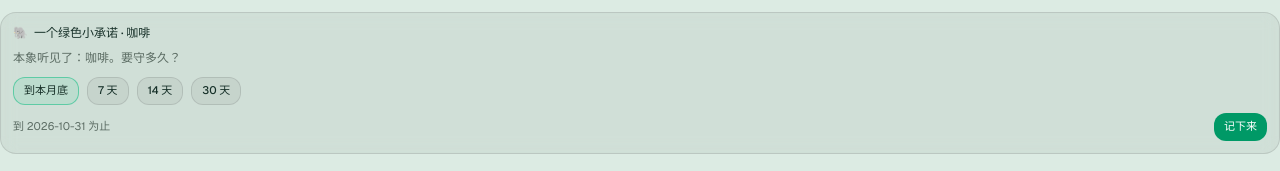
Test case: CommitmentCard 登记流 › 命中卡渲染对象原词 + 默认时长 (month_end); 改选 14 天后确认写入完整 metadata
The width and height of the screenshot is (1280, 171).
Expected: the element with test id "commitment-card" shows "咖啡", [118, 25, 150, 41]
Click the button with test id "commitment-duration-14".
click(160, 90)  # box [136, 76, 183, 104]
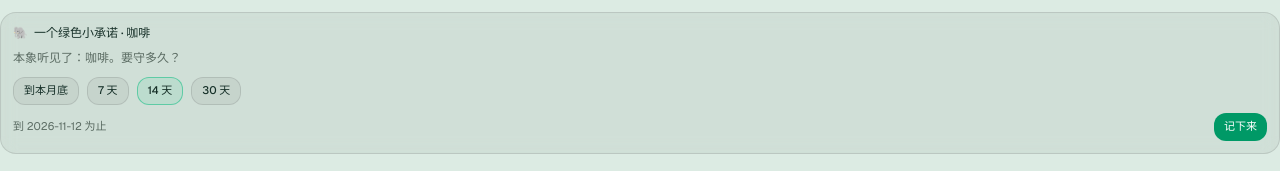
Click the button with test id "commitment-confirm".
click(1240, 126)  # box [1214, 112, 1267, 140]
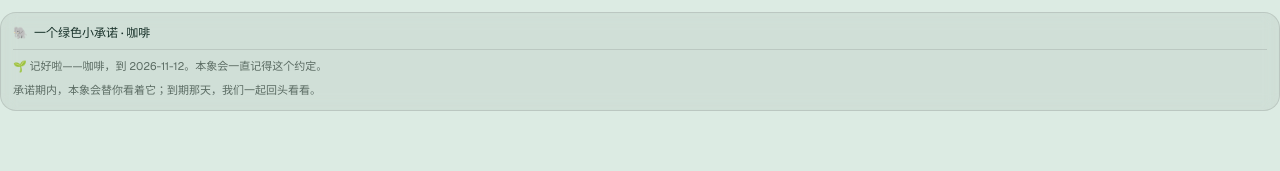
Expected: the element with test id "commitment-confirmed" is shown, [13, 49, 1267, 98]
